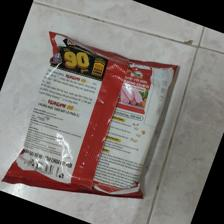Kokomi: (1, 32, 178, 199)
